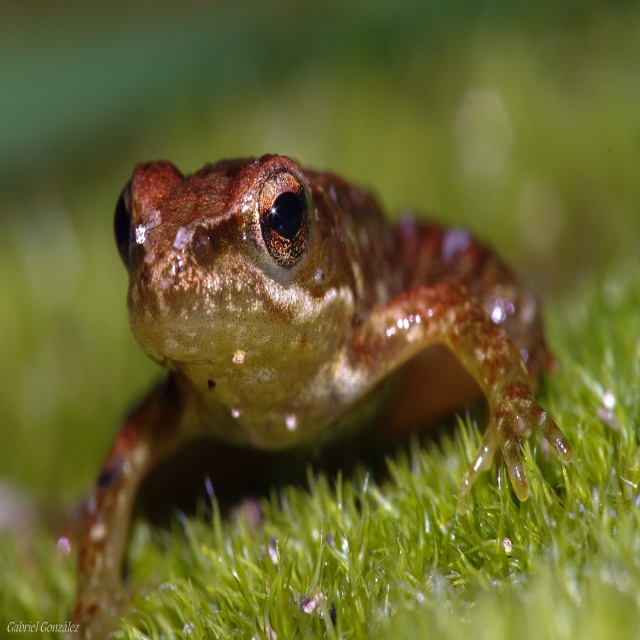Frog: (54, 157, 570, 639)
